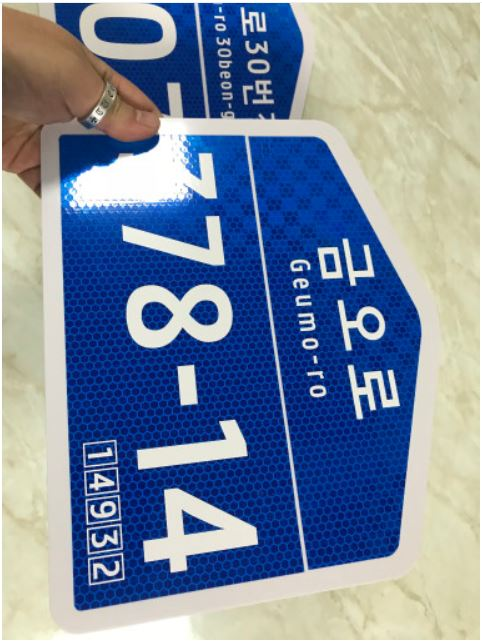building_license_plate: (41, 119, 437, 631)
